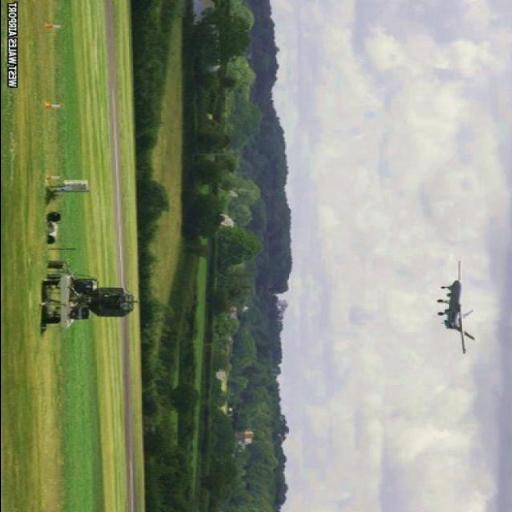uav: (424, 256, 482, 358)
